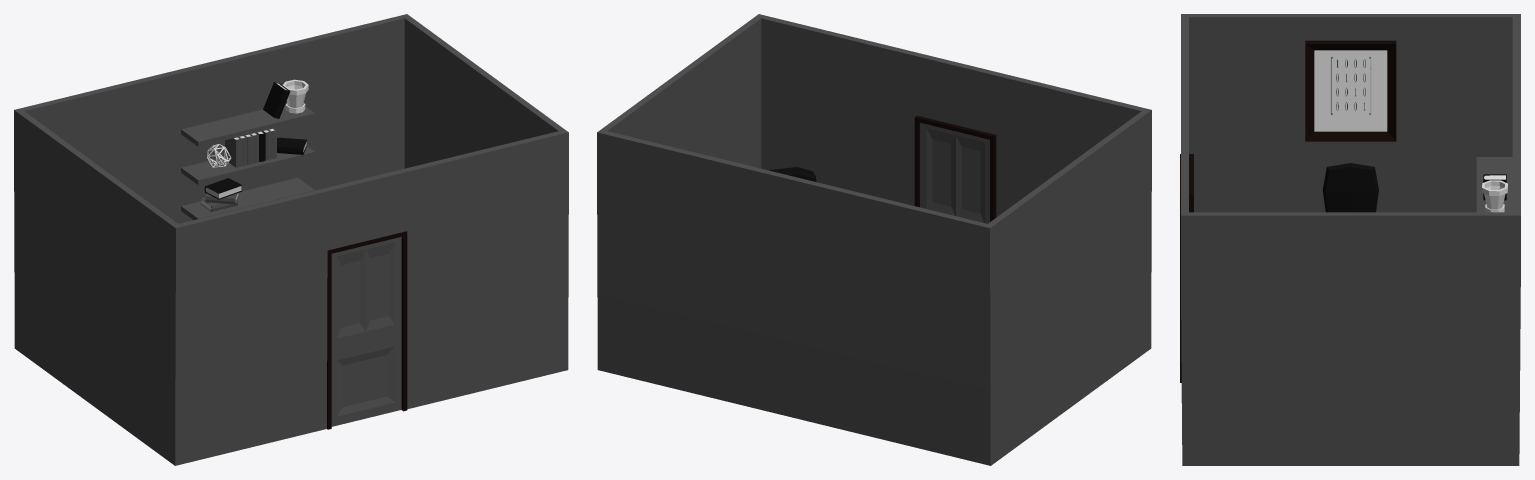
The model's file is scene_1_version_1.FBX.
The picture shows the model from 3 angles, left to right: view 1: azimuth 30°, elevation 25°; view 2: azimuth 150°, elevation 25°; view 3: azimuth 270°, elevation 25°; orthographic projection. The views are drawn at different scales.
Parts seen in each view (by area): view 1: obj_base_walls, obj_base_door, obj_shelve, obj_prop_flowerpot; view 2: obj_base_walls, obj_base_door; view 3: obj_base_walls, obj_picture_frame, obj_comp_chair, obj_shelve, obj_prop_flowerpot.
Part boxes in pixels (bbox=[...]): obj_base_walls: bbox=[14, 14, 568, 465]; obj_base_door: bbox=[331, 237, 401, 426]; obj_shelve: bbox=[181, 103, 314, 220]; obj_prop_flowerpot: bbox=[282, 79, 308, 113]; obj_base_walls: bbox=[597, 14, 1151, 465]; obj_base_door: bbox=[920, 122, 989, 223]; obj_base_walls: bbox=[1180, 14, 1520, 465]; obj_picture_frame: bbox=[1305, 40, 1396, 141]; obj_comp_chair: bbox=[1322, 163, 1378, 212]; obj_shelve: bbox=[1476, 157, 1512, 212]; obj_prop_flowerpot: bbox=[1482, 180, 1507, 212].
Bounding box in the file's own units: 208 × 121 × 149.
Materials: 13 (4 with a texture image).
